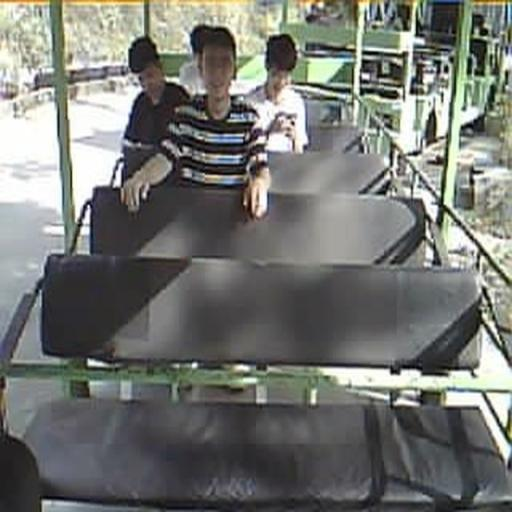persona: (119, 24, 273, 222), (119, 35, 191, 184), (244, 33, 310, 154), (179, 26, 210, 97)
